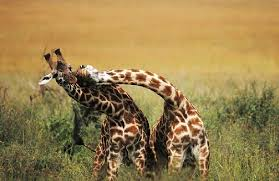Jirafa: (36, 40, 135, 111)
